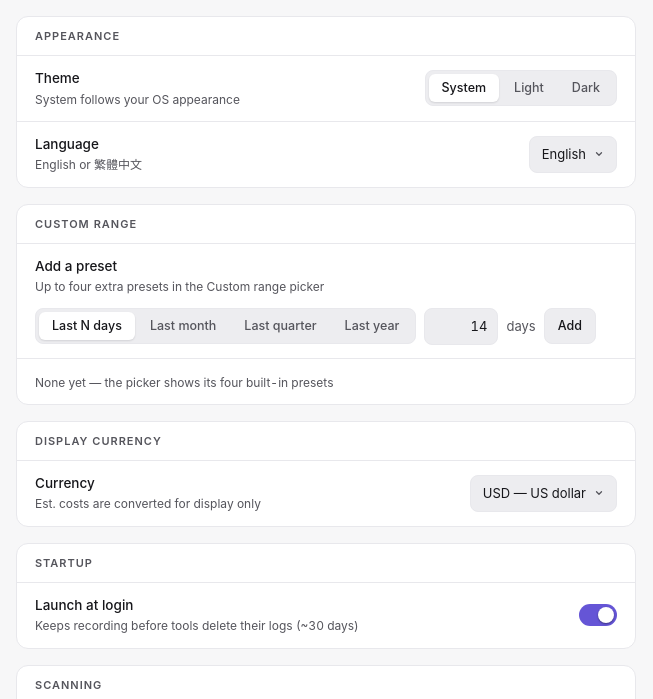
Scenario: SettingsPage › custom range presets › starts with none configured and adds the seeded rolling preset
Expected: the field named "Day count" holds "14", x1=424 y1=308 x2=498 y2=344
What coordinates should you click on to do the following:
click the button with class "set-btn"
I would click on:
 (570, 326)
Its box is x1=544 y1=308 x2=596 y2=344.
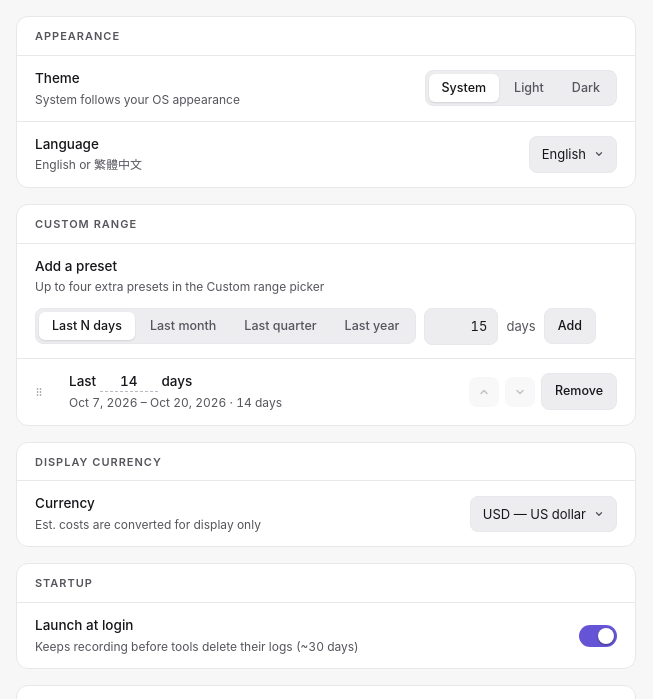
Expected: the text "None yet" is gone
